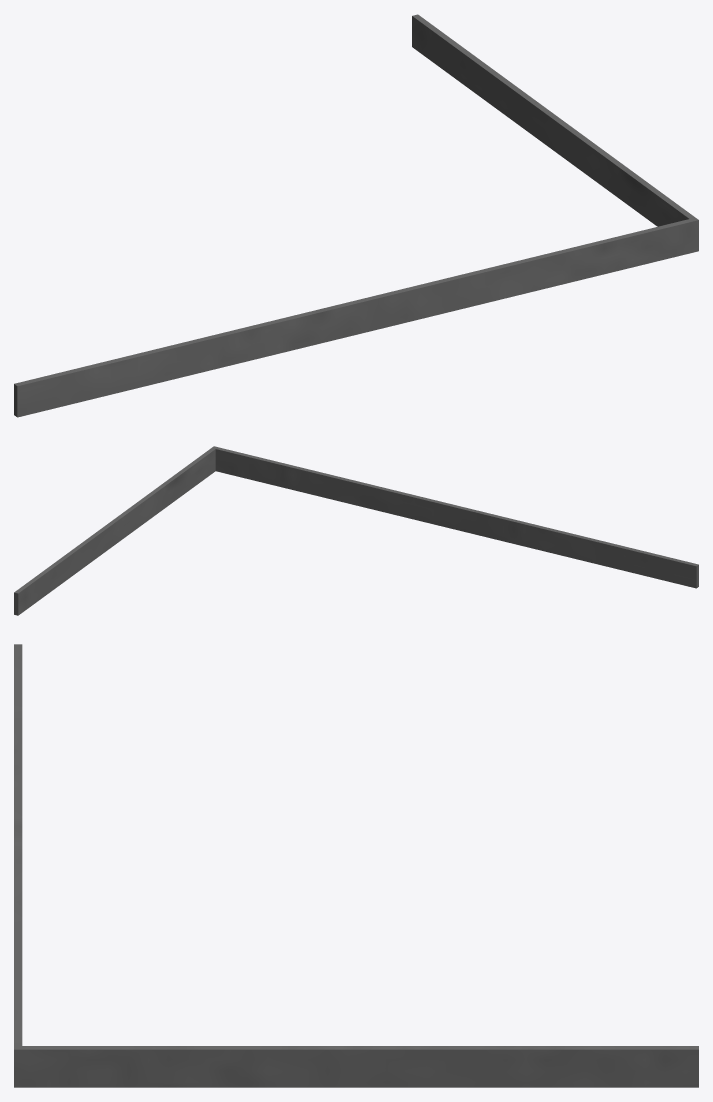
The model's file is Zierleiste1.fbx.
3 renders of one model, top to bottom at view 1: azimuth 30°, elevation 25°; view 2: azimuth 150°, elevation 25°; view 3: azimuth 270°, elevation 25°, orthographic. The views are drawn at different scales.
Visible parts, largest first — view 1: Fußbodenleiste; view 2: Fußbodenleiste; view 3: Fußbodenleiste.
Boxes of the visible parts, x1=… form: Fußbodenleiste: x1=14, y1=14, x2=698, y2=417; Fußbodenleiste: x1=14, y1=446, x2=698, y2=615; Fußbodenleiste: x1=14, y1=644, x2=698, y2=1087.
Bounding box in the file's own units: 228 × 10 × 163.
